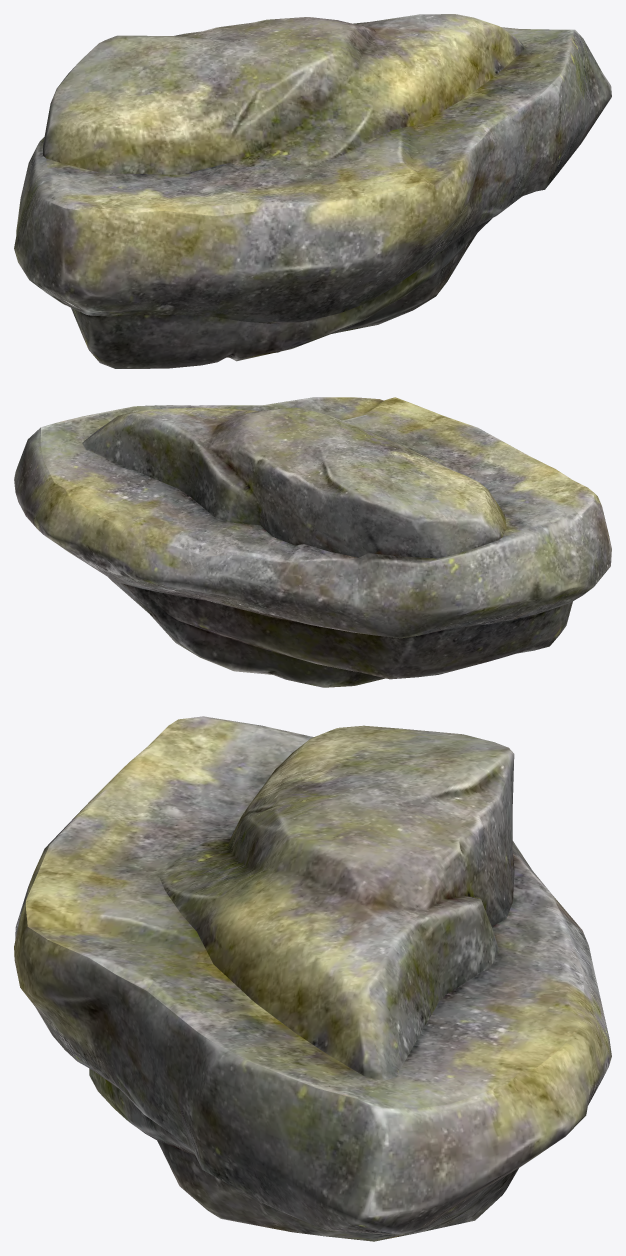
3 renders of one model, top to bottom at view 1: azimuth 30°, elevation 25°; view 2: azimuth 150°, elevation 25°; view 3: azimuth 270°, elevation 25°, orthographic. The views are drawn at different scales.
Parts seen in each view (by area): view 1: SM_Mining_Node_Medium_Clay_03_LOD0; view 2: SM_Mining_Node_Medium_Clay_03_LOD0; view 3: SM_Mining_Node_Medium_Clay_03_LOD0.
Part boxes in pixels (x1,y1,x2,y2): SM_Mining_Node_Medium_Clay_03_LOD0: (14, 14, 611, 368); SM_Mining_Node_Medium_Clay_03_LOD0: (14, 397, 611, 687); SM_Mining_Node_Medium_Clay_03_LOD0: (14, 716, 611, 1241).
Bounding box in the file's own units: 3.55 × 1.49 × 2.16.
